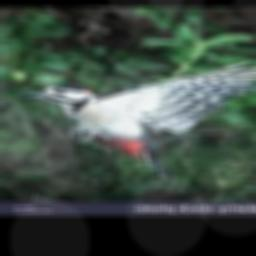Woodpecker: (17, 61, 256, 180)
